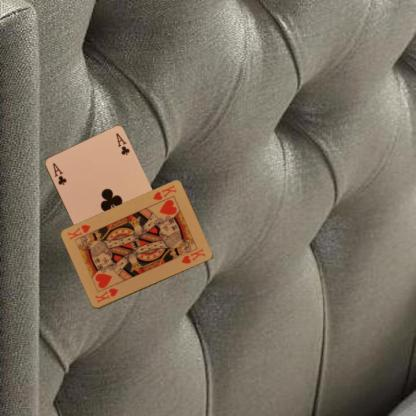Ac: (50, 160, 68, 186)
Kh: (150, 183, 178, 202), (92, 286, 119, 304)
